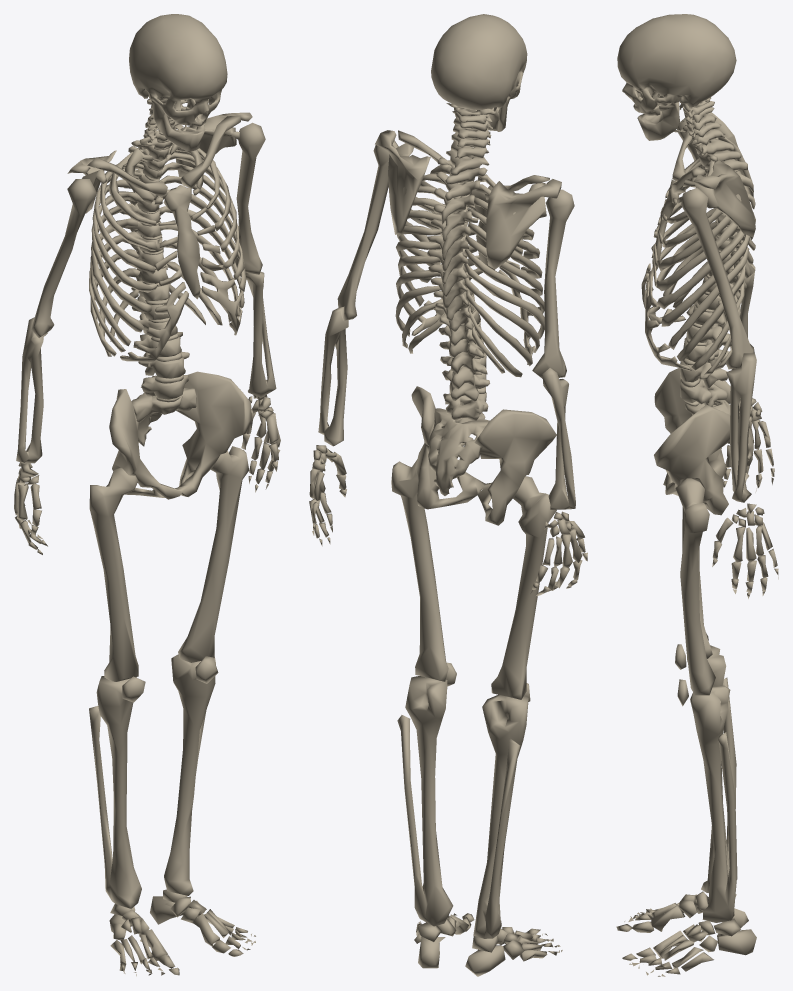
File: icrp_adult_female.skeletal.LOD3.glb
3 views of the same model, side by side, from view 1: azimuth 30°, elevation 25°; view 2: azimuth 150°, elevation 25°; view 3: azimuth 270°, elevation 25° (orthographic).
Visible parts, largest first — view 1: ICRP.ADULT.FEMALE.SKELETAL.RIBS_CORTICAL, ICRP.ADULT.FEMALE.SKELETAL.TIBIAE_FIBULAE_AND_PATELLAE_CORTI, ICRP.ADULT.FEMALE.SKELETAL.FEMORA_CORTICAL, ICRP.ADULT.FEMALE.SKELETAL.CRANIUM_CORTICAL, ICRP.ADULT.FEMALE.SKELETAL.PELVIS_CORTICAL, ICRP.ADULT.FEMALE.SKELETAL.ANKLES_AND_FOOT_CORTICAL, ICRP.ADULT.FEMALE.SKELETAL.HUMERI_CORTICAL, ICRP.ADULT.FEMALE.SKELETAL.ULNAE_AND_RADII_CORTICAL, ICRP.ADULT.FEMALE.SKELETAL.CARTILAGE_COSTAL, ICRP.ADULT.FEMALE.SKELETAL.WRISTS_AND_HAND_BONES_CORTICAL, ICRP.ADULT.FEMALE.SKELETAL.THORACIC_SPINE_CORTICAL, ICRP.ADULT.FEMALE.SKELETAL.LUMBAR_SPINE_CORTICAL (+7 smaller); view 2: ICRP.ADULT.FEMALE.SKELETAL.TIBIAE_FIBULAE_AND_PATELLAE_CORTI, ICRP.ADULT.FEMALE.SKELETAL.RIBS_CORTICAL, ICRP.ADULT.FEMALE.SKELETAL.FEMORA_CORTICAL, ICRP.ADULT.FEMALE.SKELETAL.PELVIS_CORTICAL, ICRP.ADULT.FEMALE.SKELETAL.CRANIUM_CORTICAL, ICRP.ADULT.FEMALE.SKELETAL.SCAPULAE_CORTICAL, ICRP.ADULT.FEMALE.SKELETAL.THORACIC_SPINE_CORTICAL, ICRP.ADULT.FEMALE.SKELETAL.HUMERI_CORTICAL, ICRP.ADULT.FEMALE.SKELETAL.ULNAE_AND_RADII_CORTICAL, ICRP.ADULT.FEMALE.SKELETAL.WRISTS_AND_HAND_BONES_CORTICAL, ICRP.ADULT.FEMALE.SKELETAL.ANKLES_AND_FOOT_CORTICAL, ICRP.ADULT.FEMALE.SKELETAL.LUMBAR_SPINE_CORTICAL (+4 smaller); view 3: ICRP.ADULT.FEMALE.SKELETAL.CRANIUM_CORTICAL, ICRP.ADULT.FEMALE.SKELETAL.TIBIAE_FIBULAE_AND_PATELLAE_CORTI, ICRP.ADULT.FEMALE.SKELETAL.RIBS_CORTICAL, ICRP.ADULT.FEMALE.SKELETAL.PELVIS_CORTICAL, ICRP.ADULT.FEMALE.SKELETAL.ANKLES_AND_FOOT_CORTICAL, ICRP.ADULT.FEMALE.SKELETAL.FEMORA_CORTICAL, ICRP.ADULT.FEMALE.SKELETAL.WRISTS_AND_HAND_BONES_CORTICAL, ICRP.ADULT.FEMALE.SKELETAL.HUMERI_CORTICAL, ICRP.ADULT.FEMALE.SKELETAL.ULNAE_AND_RADII_CORTICAL, ICRP.ADULT.FEMALE.SKELETAL.SCAPULAE_CORTICAL, ICRP.ADULT.FEMALE.SKELETAL.LUMBAR_SPINE_CORTICAL, ICRP.ADULT.FEMALE.SKELETAL.THORACIC_SPINE_CORTICAL (+7 smaller).
Part boxes in pixels (bbox=[...]): ICRP.ADULT.FEMALE.SKELETAL.RIBS_CORTICAL: bbox=[89, 143, 246, 356]; ICRP.ADULT.FEMALE.SKELETAL.TIBIAE_FIBULAE_AND_PATELLAE_CORTI: bbox=[89, 654, 218, 908]; ICRP.ADULT.FEMALE.SKELETAL.FEMORA_CORTICAL: bbox=[89, 446, 249, 681]; ICRP.ADULT.FEMALE.SKELETAL.CRANIUM_CORTICAL: bbox=[129, 14, 227, 126]; ICRP.ADULT.FEMALE.SKELETAL.PELVIS_CORTICAL: bbox=[109, 371, 251, 499]; ICRP.ADULT.FEMALE.SKELETAL.ANKLES_AND_FOOT_CORTICAL: bbox=[109, 889, 255, 976]; ICRP.ADULT.FEMALE.SKELETAL.HUMERI_CORTICAL: bbox=[31, 122, 265, 337]; ICRP.ADULT.FEMALE.SKELETAL.ULNAE_AND_RADII_CORTICAL: bbox=[16, 272, 276, 463]; ICRP.ADULT.FEMALE.SKELETAL.CARTILAGE_COSTAL: bbox=[120, 188, 242, 361]; ICRP.ADULT.FEMALE.SKELETAL.WRISTS_AND_HAND_BONES_CORTICAL: bbox=[14, 394, 280, 554]; ICRP.ADULT.FEMALE.SKELETAL.THORACIC_SPINE_CORTICAL: bbox=[120, 135, 169, 300]; ICRP.ADULT.FEMALE.SKELETAL.LUMBAR_SPINE_CORTICAL: bbox=[132, 294, 189, 399]; ICRP.ADULT.FEMALE.SKELETAL.TIBIAE_FIBULAE_AND_PATELLAE_CORTI: bbox=[397, 662, 530, 938]; ICRP.ADULT.FEMALE.SKELETAL.RIBS_CORTICAL: bbox=[395, 164, 544, 377]; ICRP.ADULT.FEMALE.SKELETAL.FEMORA_CORTICAL: bbox=[391, 459, 556, 699]; ICRP.ADULT.FEMALE.SKELETAL.PELVIS_CORTICAL: bbox=[411, 386, 556, 525]; ICRP.ADULT.FEMALE.SKELETAL.CRANIUM_CORTICAL: bbox=[431, 14, 527, 111]; ICRP.ADULT.FEMALE.SKELETAL.SCAPULAE_CORTICAL: bbox=[375, 130, 561, 269]; ICRP.ADULT.FEMALE.SKELETAL.THORACIC_SPINE_CORTICAL: bbox=[427, 157, 487, 345]; ICRP.ADULT.FEMALE.SKELETAL.HUMERI_CORTICAL: bbox=[337, 140, 574, 378]; ICRP.ADULT.FEMALE.SKELETAL.ULNAE_AND_RADII_CORTICAL: bbox=[318, 306, 575, 509]; ICRP.ADULT.FEMALE.SKELETAL.WRISTS_AND_HAND_BONES_CORTICAL: bbox=[309, 445, 587, 595]; ICRP.ADULT.FEMALE.SKELETAL.ANKLES_AND_FOOT_CORTICAL: bbox=[414, 913, 562, 976]; ICRP.ADULT.FEMALE.SKELETAL.LUMBAR_SPINE_CORTICAL: bbox=[438, 325, 489, 421]; ICRP.ADULT.FEMALE.SKELETAL.CRANIUM_CORTICAL: bbox=[617, 14, 736, 115]; ICRP.ADULT.FEMALE.SKELETAL.TIBIAE_FIBULAE_AND_PATELLAE_CORTI: bbox=[675, 644, 737, 922]; ICRP.ADULT.FEMALE.SKELETAL.RIBS_CORTICAL: bbox=[651, 157, 750, 374]; ICRP.ADULT.FEMALE.SKELETAL.PELVIS_CORTICAL: bbox=[654, 368, 730, 515]; ICRP.ADULT.FEMALE.SKELETAL.ANKLES_AND_FOOT_CORTICAL: bbox=[616, 891, 756, 976]; ICRP.ADULT.FEMALE.SKELETAL.FEMORA_CORTICAL: bbox=[675, 478, 715, 695]; ICRP.ADULT.FEMALE.SKELETAL.WRISTS_AND_HAND_BONES_CORTICAL: bbox=[712, 398, 778, 598]; ICRP.ADULT.FEMALE.SKELETAL.HUMERI_CORTICAL: bbox=[677, 118, 755, 369]; ICRP.ADULT.FEMALE.SKELETAL.ULNAE_AND_RADII_CORTICAL: bbox=[726, 264, 756, 502]; ICRP.ADULT.FEMALE.SKELETAL.SCAPULAE_CORTICAL: bbox=[681, 112, 755, 237]; ICRP.ADULT.FEMALE.SKELETAL.LUMBAR_SPINE_CORTICAL: bbox=[680, 305, 731, 406]; ICRP.ADULT.FEMALE.SKELETAL.THORACIC_SPINE_CORTICAL: bbox=[697, 137, 755, 310].
Bounding box in the file's own units: 0.4815 × 1.63 × 0.2571.
